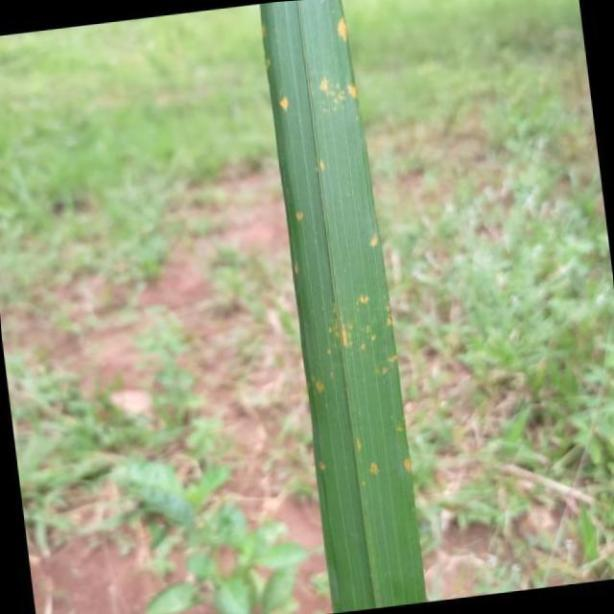Kalium: (257, 0, 432, 610)
